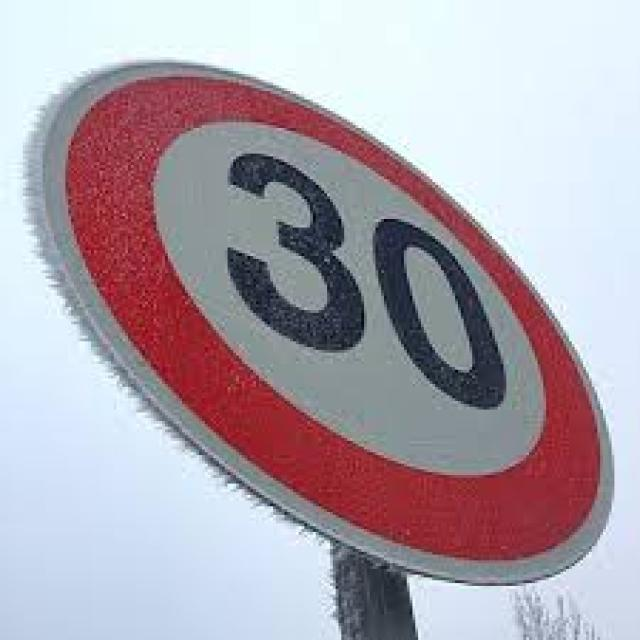speed_30: (26, 60, 618, 595)
